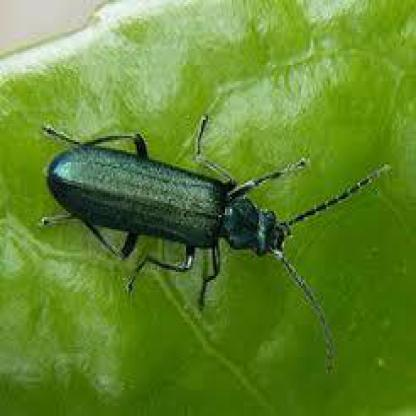blister beetle: (45, 113, 390, 370)
